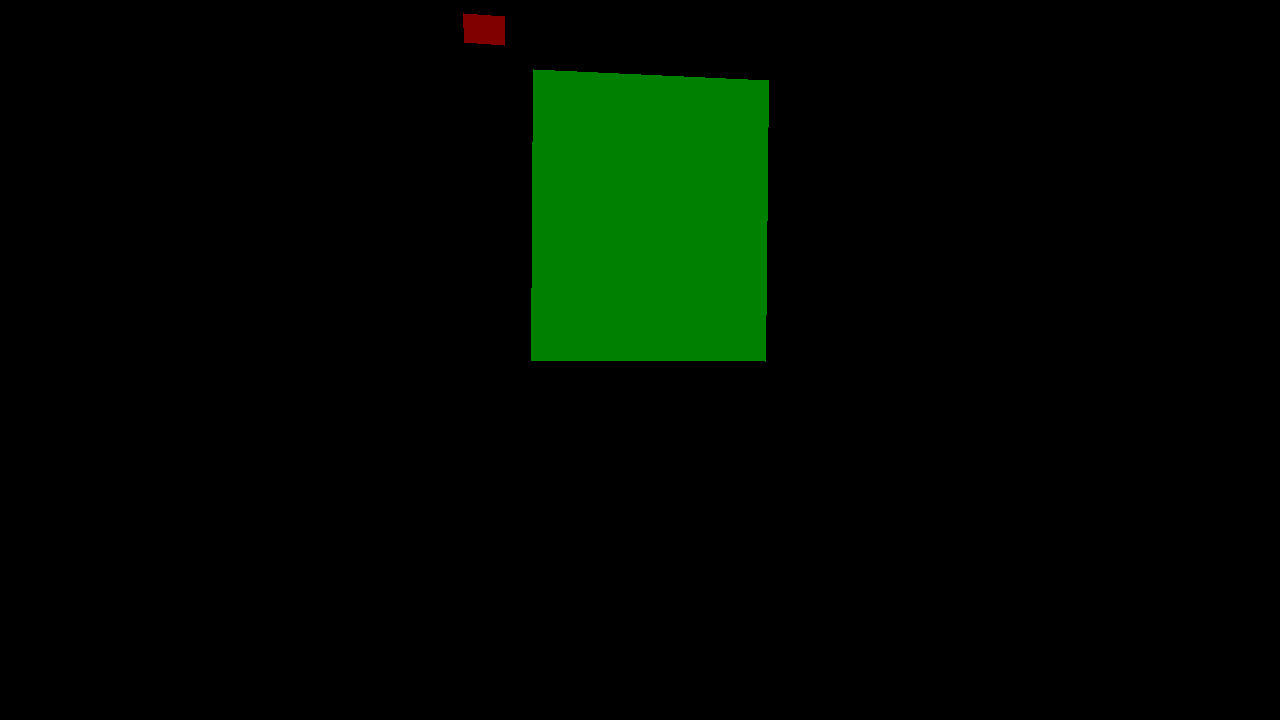door: (531, 69, 768, 361)
sign: (463, 13, 504, 45), (606, 178, 625, 199)
